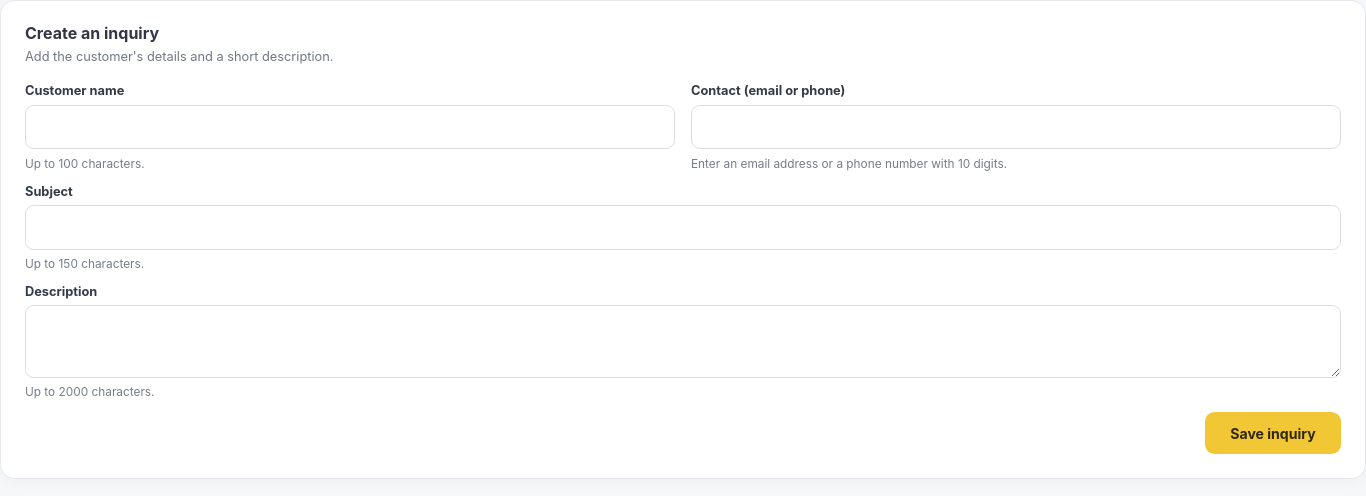
Test: InquiryCreateForm › requires phone contacts to contain exactly 10 digits
The width and height of the screenshot is (1366, 496).
In the field labelled "Customer name": (350, 127) left=25, top=105, right=675, bottom=149, type "Taylor Customer"
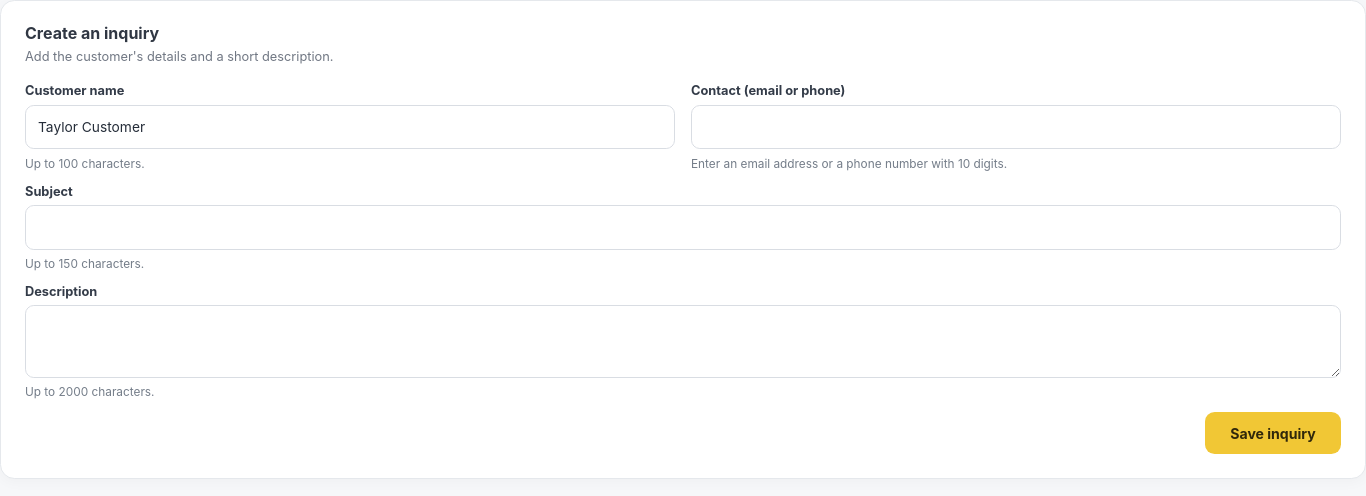
In the field labelled "Contact (email or phone)": (1016, 127) left=691, top=105, right=1341, bottom=149, type "123456789"
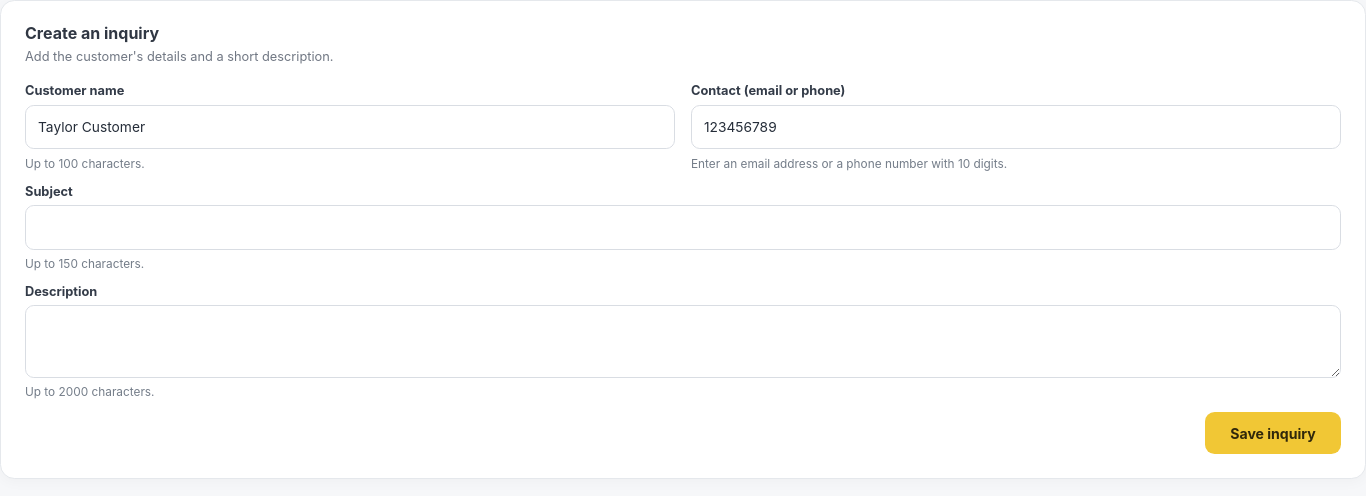
In the field labelled "Subject": (683, 227) left=25, top=205, right=1341, bottom=250, type "Order question"
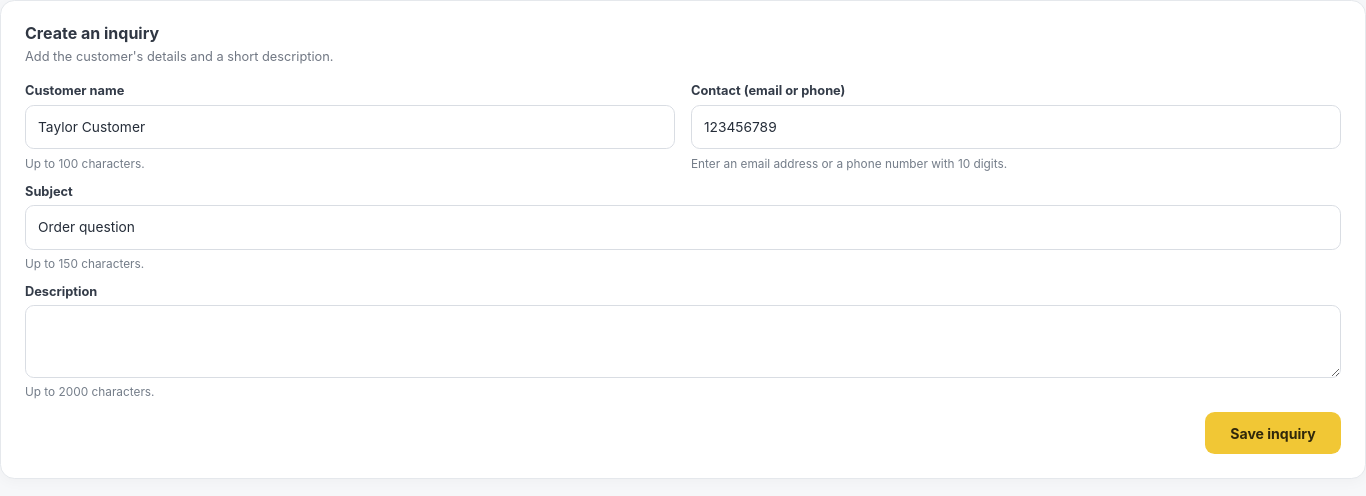
In the text box labelled "Description": (683, 342) left=25, top=305, right=1341, bottom=378, type "Please check my order."
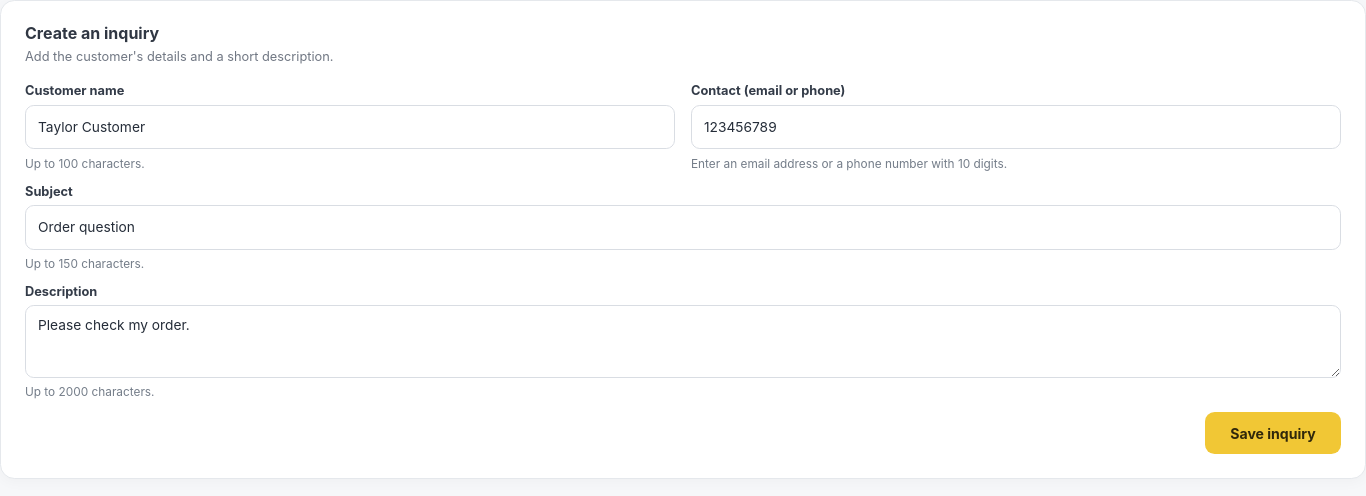
Click the button "Save inquiry": (1273, 433) left=1205, top=412, right=1341, bottom=454
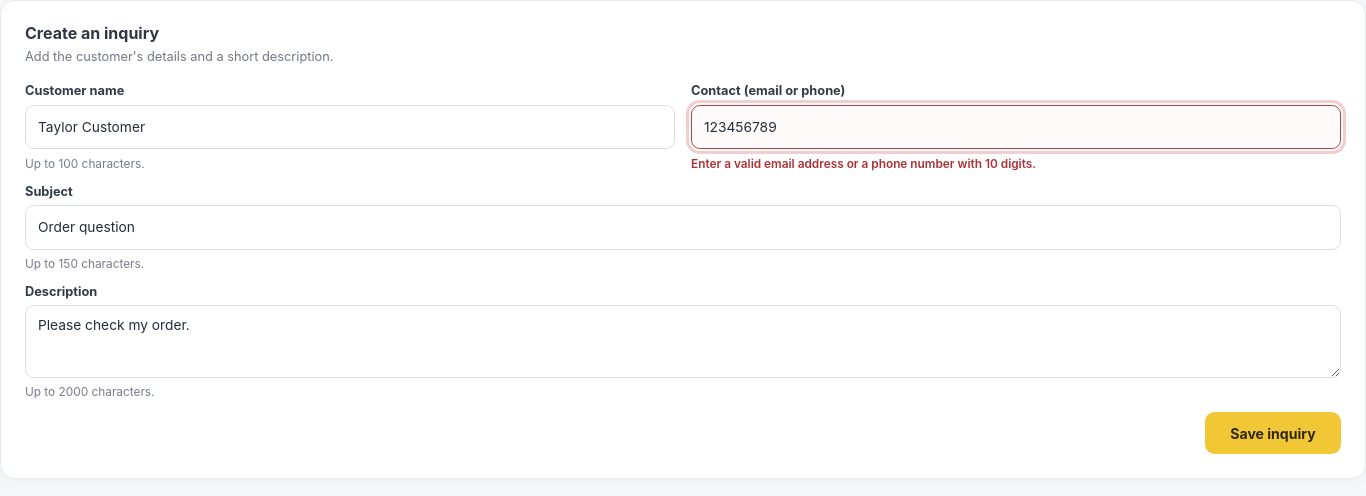
expect the text "Enter a valid email address or a phone number with 10 digits." is shown: met, box left=691, top=157, right=1036, bottom=171
